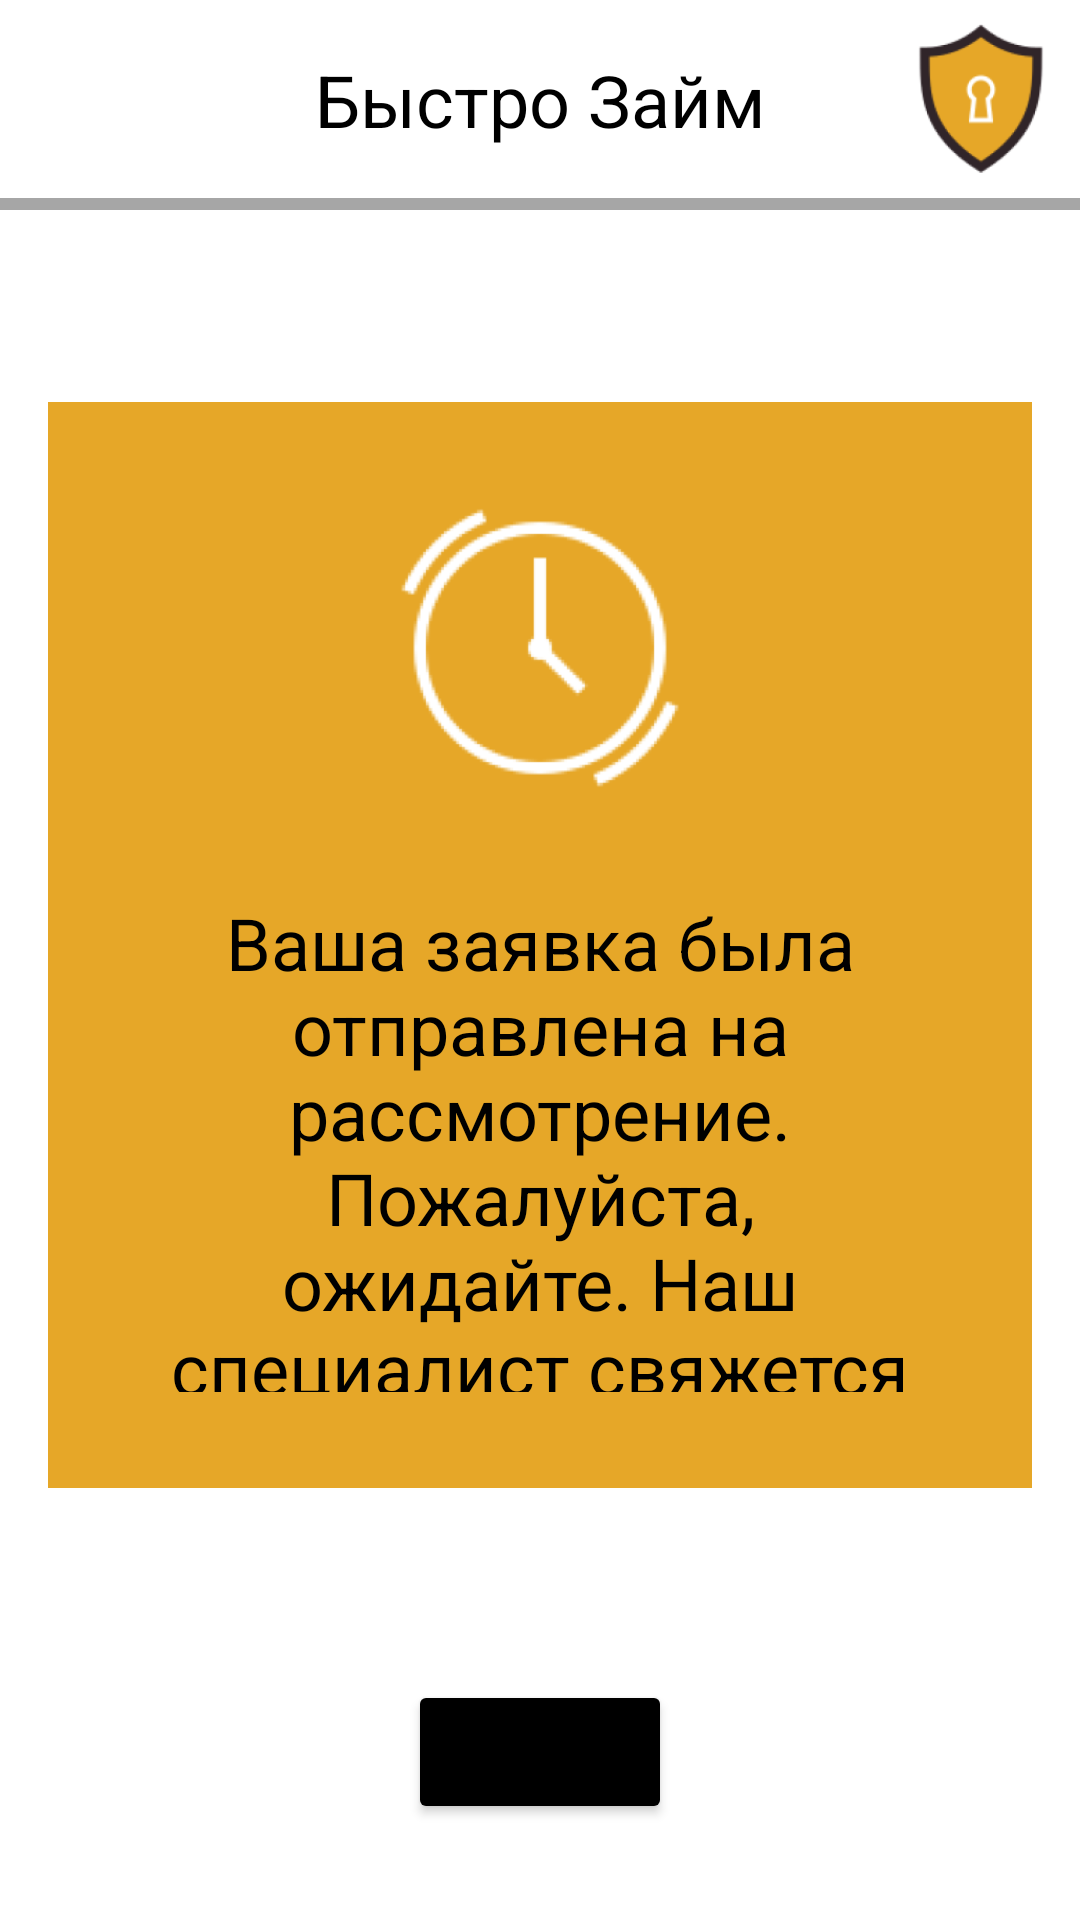

Screen size 1080 x 1920. Icon name, then its box in pixels as (x1,y1,x2,y2):
clock: (401,509,679,787)
lock: (919,25,1043,173)
